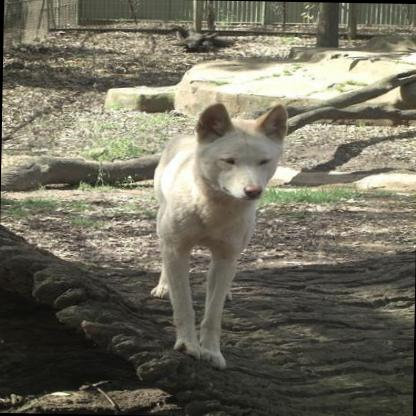dingo: (146, 96, 286, 364)
